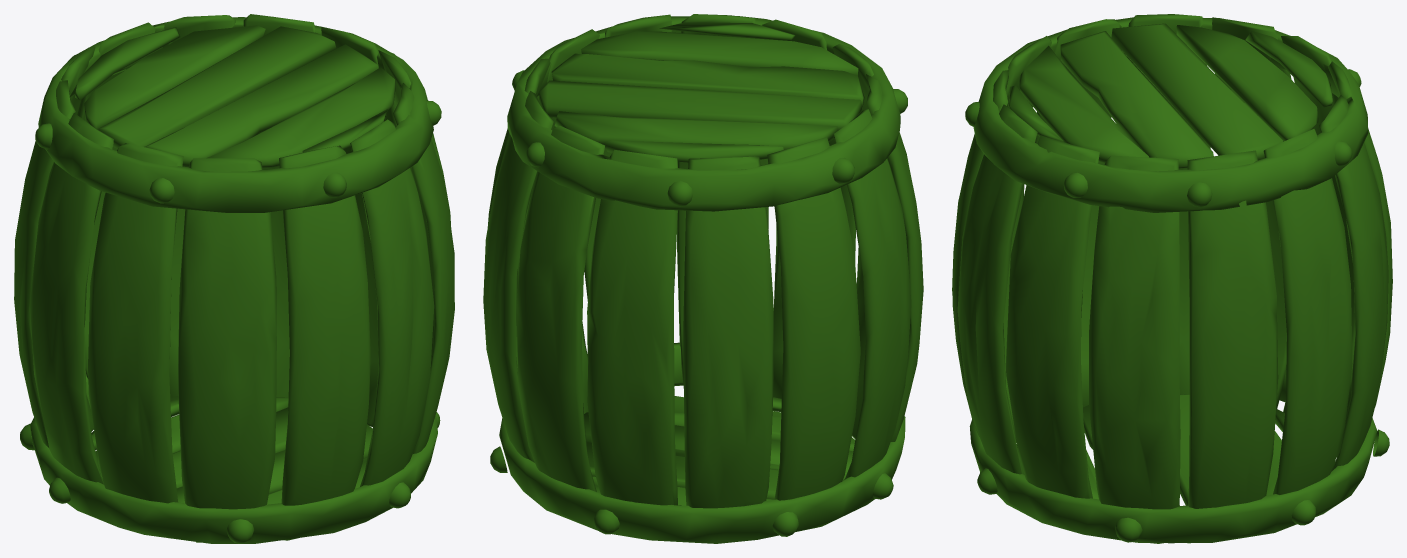
The model's file is SM_barrel.fbx.
3 renders of one model, left to right at view 1: azimuth 30°, elevation 25°; view 2: azimuth 150°, elevation 25°; view 3: azimuth 270°, elevation 25°, orthographic.
Parts seen in each view (by area): view 1: barrel; view 2: barrel; view 3: barrel.
Boxes of the visible parts, x1,y1,x2,y2 form: barrel: (14,14,454,543); barrel: (483,14,923,543); barrel: (952,14,1392,543).
Bounding box in the file's own units: 138 × 134 × 138.
